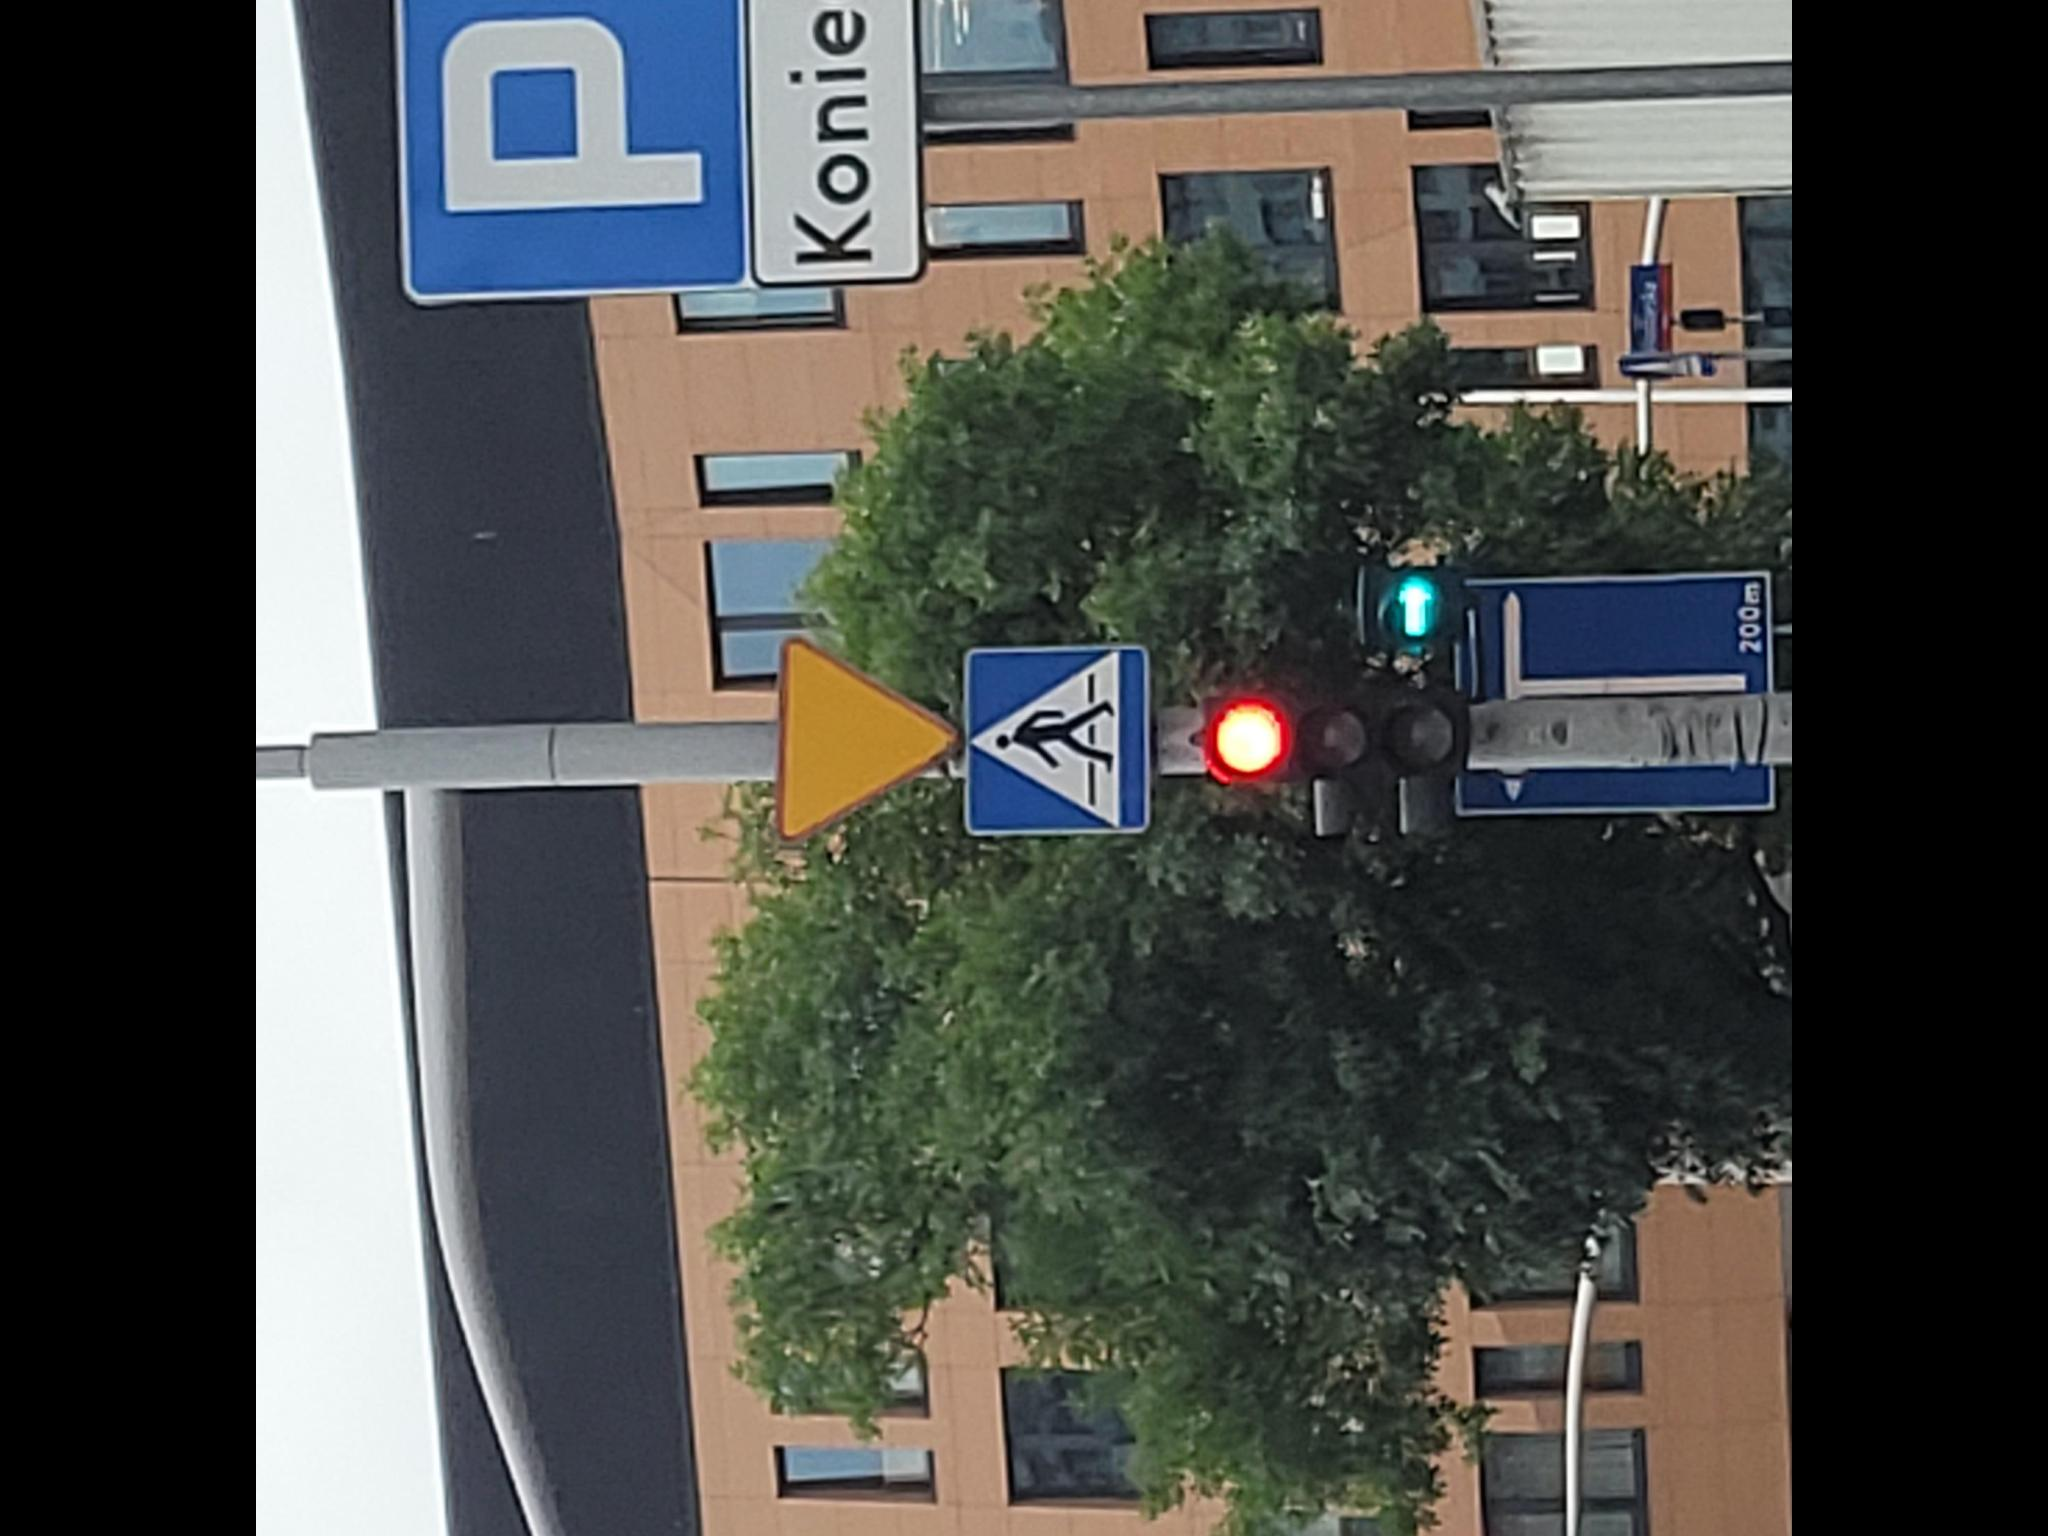information: (389, 0, 743, 295), (963, 647, 1151, 831)
other: (739, 0, 922, 287)
warning: (769, 634, 956, 839)
